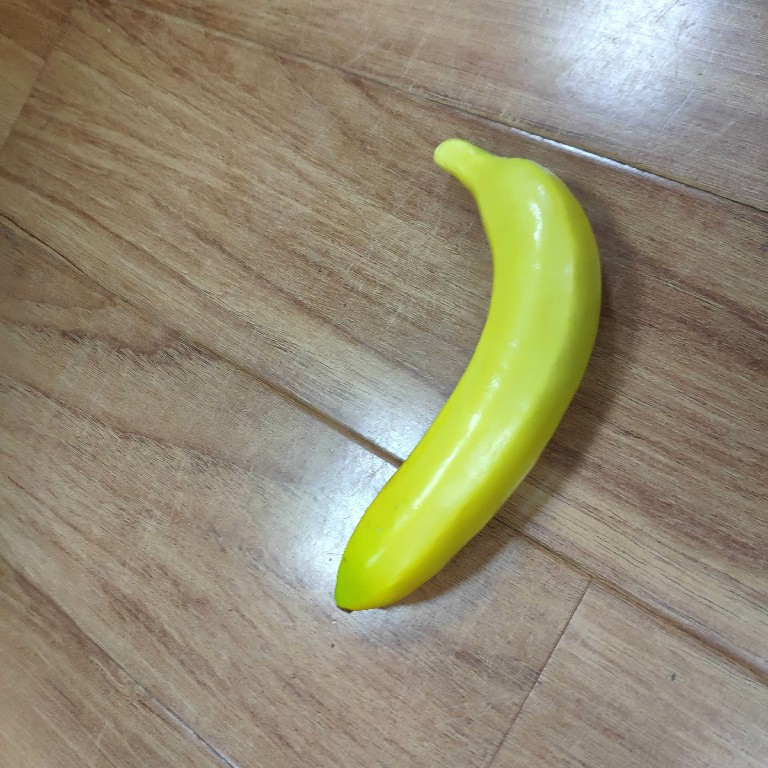fruit_banana: (329, 131, 607, 618)
